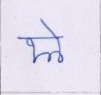o_matra: (48, 25, 66, 63)
